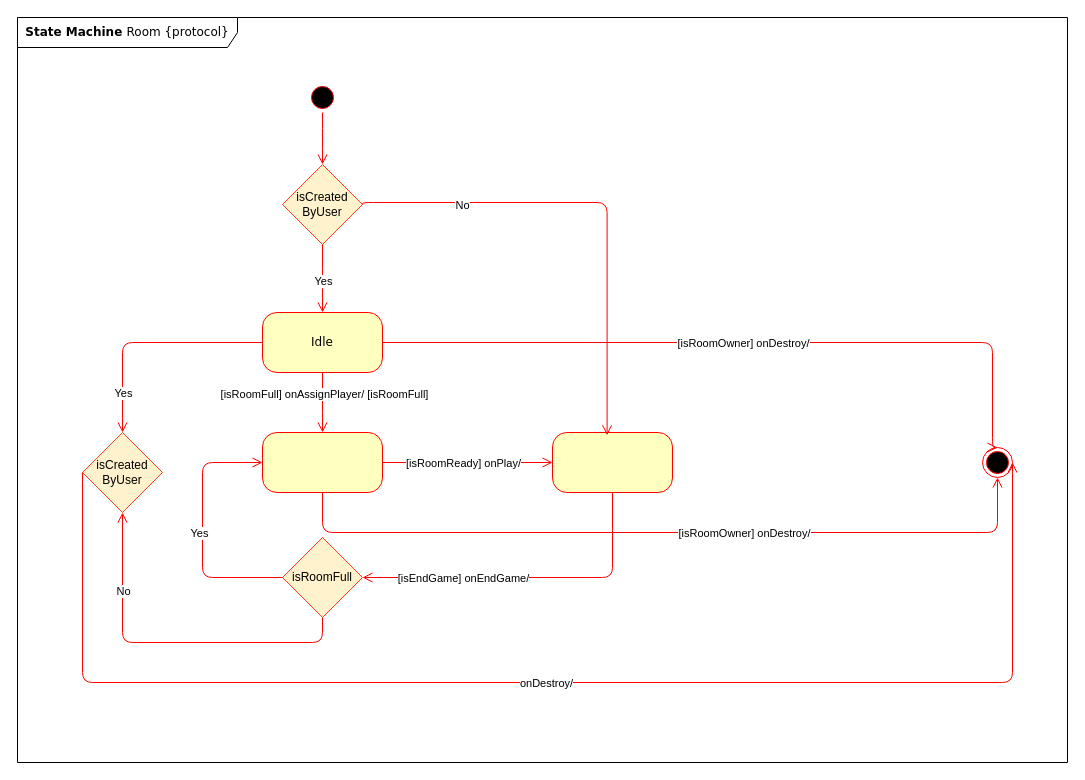
This 1085x780 diagram has some shape labels left out. The box of each missing label's shape, as (x1, y1, x2, y2) in pixels:
Play: (552, 432, 672, 492)
Ready: (262, 432, 382, 492)
